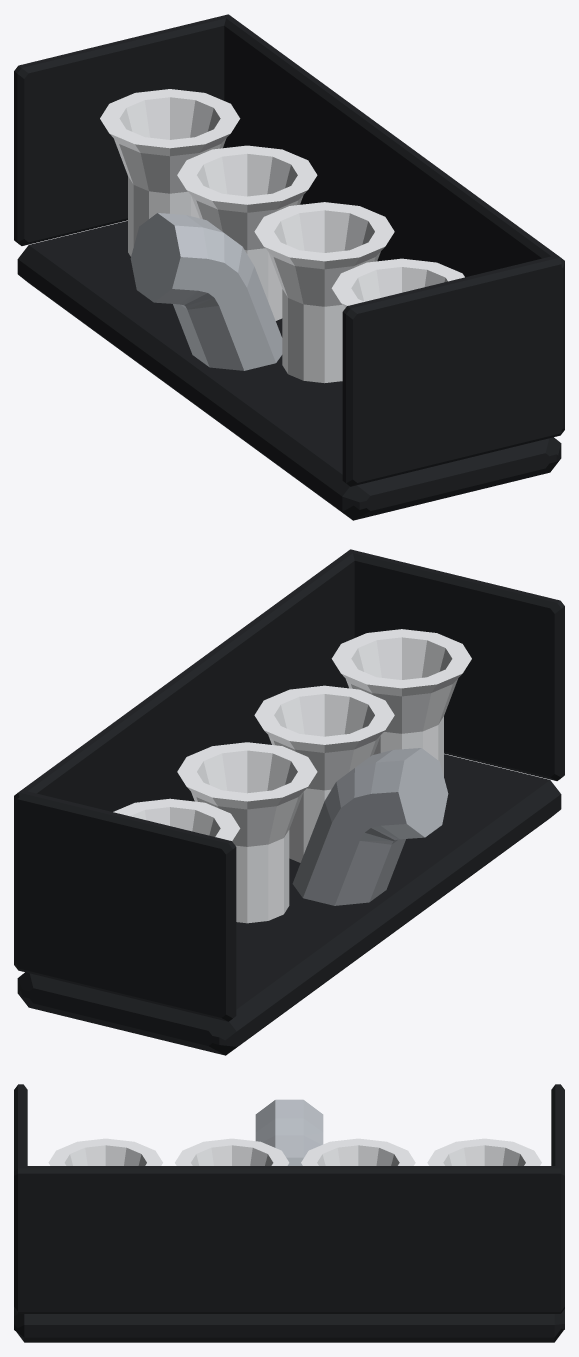
The model's file is hana_roadster.glb.
3 renders of one model, top to bottom at view 1: azimuth 30°, elevation 25°; view 2: azimuth 150°, elevation 25°; view 3: azimuth 270°, elevation 25°, orthographic. The views are drawn at different scales.
Parts seen in each view (by area): view 1: model; view 2: model; view 3: model.
Part boxes in pixels (<box>): model: <box>14,14,564,520</box>; model: <box>14,549,564,1055</box>; model: <box>14,1084,564,1342</box>.
Bounding box in the file's own units: 0.2085 × 0.1803 × 0.48.
3 materials, 1 textured.
